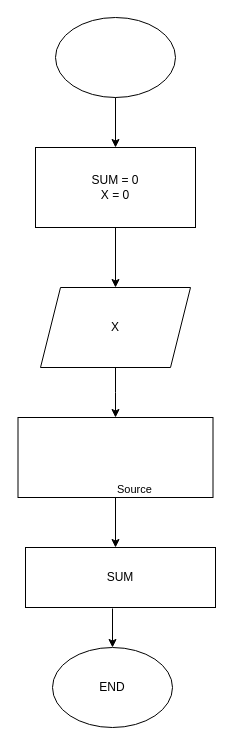
This 233x745 diagram has some shape labels left out. Here are the shapes that lost their labels. From the top down, the centre of each, then its label:
At point 115,57: "START".
At point 115,457: "SUM = SUM + (X * X)".
